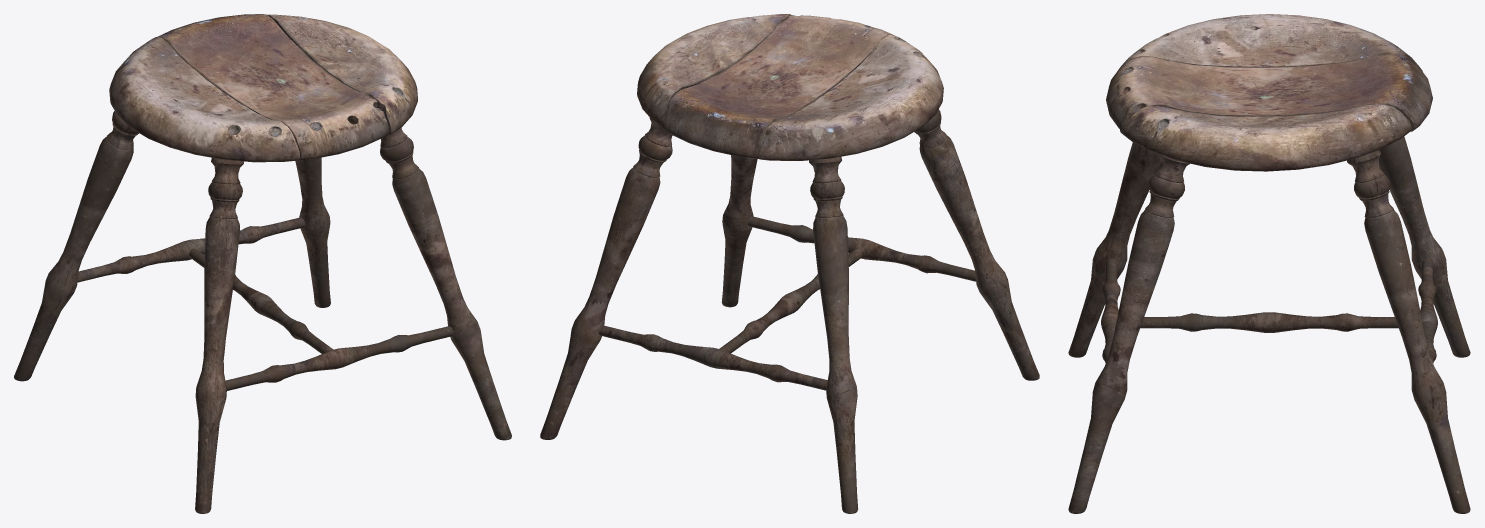
File: wooden_stool_01.glb
3 renders of one model, left to right at view 1: azimuth 30°, elevation 25°; view 2: azimuth 150°, elevation 25°; view 3: azimuth 270°, elevation 25°, orthographic. The views are drawn at different scales.
Parts seen in each view (by area): view 1: wooden_stool_01; view 2: wooden_stool_01; view 3: wooden_stool_01.
Boxes of the visible parts, x1,y1,x2,y2 form: wooden_stool_01: (14, 14, 511, 513); wooden_stool_01: (540, 14, 1039, 513); wooden_stool_01: (1068, 14, 1470, 513).
Size of the model in its own units: 0.4254 by 0.4373 by 0.4424.
Materials: 1 (1 with a texture image).
